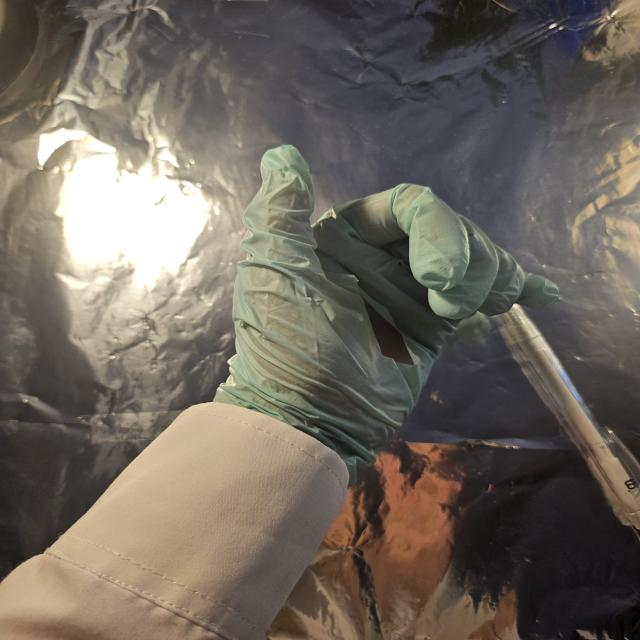gloves_damaged: (225, 138, 564, 456)
